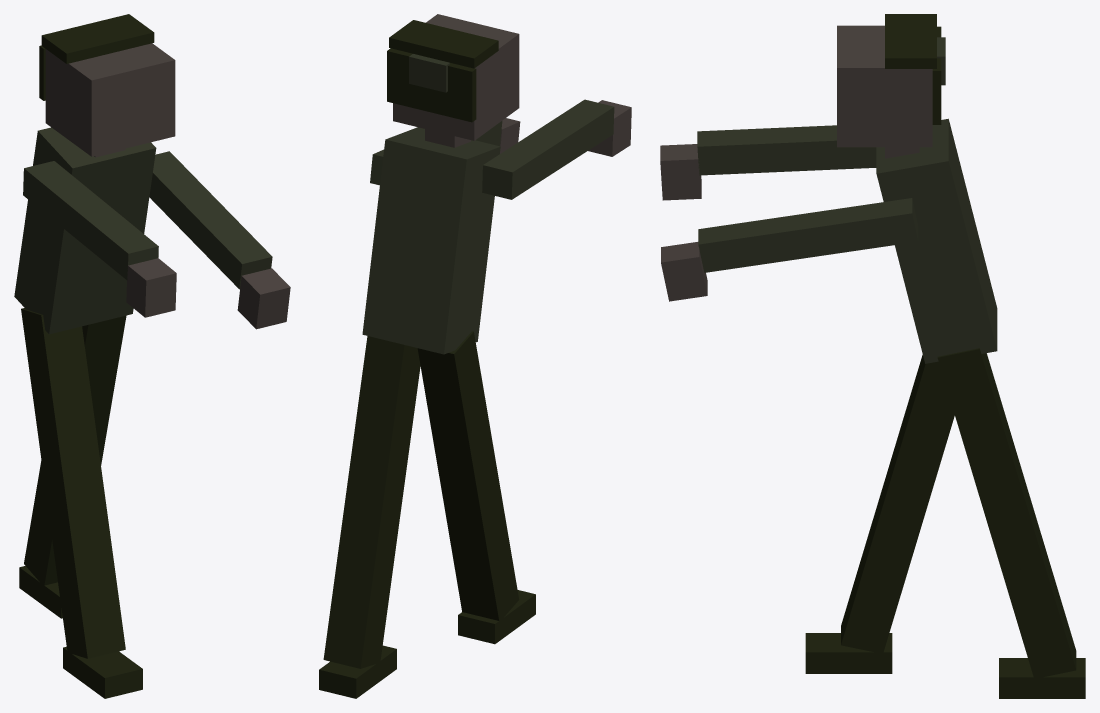
The model's file is SM_ZombiFino_v7_Bajo_LOD0.fbx.
The picture shows the model from 3 angles, left to right: view 1: azimuth 30°, elevation 25°; view 2: azimuth 150°, elevation 25°; view 3: azimuth 270°, elevation 25°; orthographic projection. The views are drawn at different scales.
Visible parts, largest first — view 1: SM_zombi_fino_v7_LOD0; view 2: SM_zombi_fino_v7_LOD0; view 3: SM_zombi_fino_v7_LOD0.
Part boxes in pixels (<box>): SM_zombi_fino_v7_LOD0: <box>14,14,290,698</box>; SM_zombi_fino_v7_LOD0: <box>319,14,631,698</box>; SM_zombi_fino_v7_LOD0: <box>660,14,1085,698</box>.
Size of the model in its own units: 0.399 by 1.63 by 0.9796.
